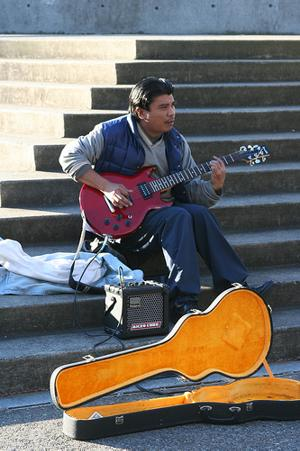person: (59, 75, 250, 323)
